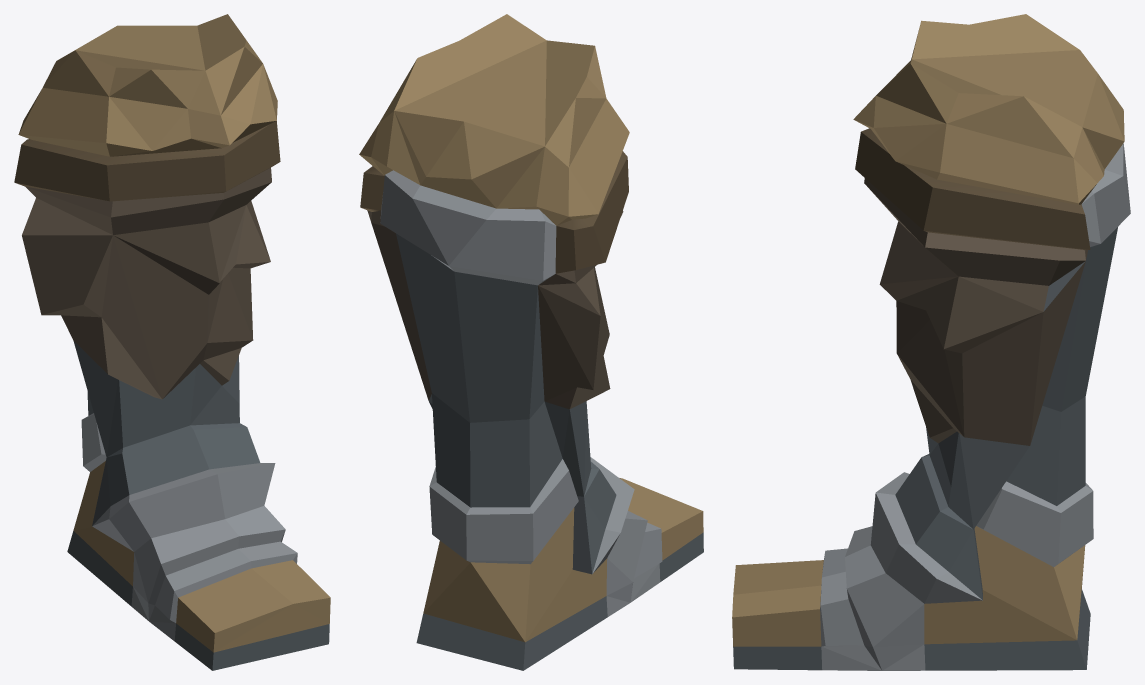
File: Chr_LegLeft_Male_05_Static.fbx
3 renders of one model, left to right at view 1: azimuth 30°, elevation 25°; view 2: azimuth 150°, elevation 25°; view 3: azimuth 270°, elevation 25°, orthographic. The views are drawn at different scales.
Parts seen in each view (by area): view 1: Chr_LegLeft_Male_05_Static; view 2: Chr_LegLeft_Male_05_Static; view 3: Chr_LegLeft_Male_05_Static.
Part boxes in pixels (<box>): Chr_LegLeft_Male_05_Static: <box>14,14,330,670</box>; Chr_LegLeft_Male_05_Static: <box>359,14,703,670</box>; Chr_LegLeft_Male_05_Static: <box>732,14,1130,670</box>.
Size of the model in its own units: 0.186 by 0.4165 by 0.2496.
